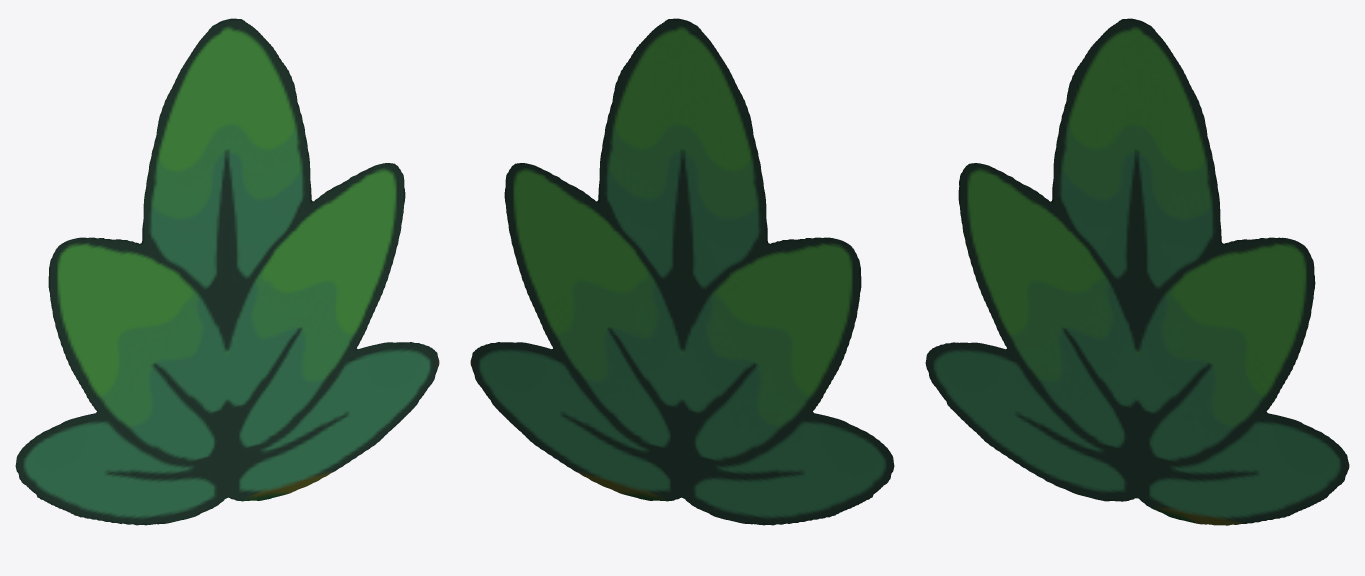
Rendered from HojaP.fbx.
The picture shows the model from 3 angles, left to right: view 1: azimuth 30°, elevation 25°; view 2: azimuth 150°, elevation 25°; view 3: azimuth 330°, elevation 25°; orthographic projection.
Visible parts, largest first — view 1: HojaP; view 2: HojaP; view 3: HojaP.
Part boxes in pixels (x1,y1,x2,y2): HojaP: (15,18,439,525); HojaP: (470,18,894,525); HojaP: (925,18,1349,525).
Bounding box in the file's own units: 0.4435 × 0.4922 × 2.15e-08.
